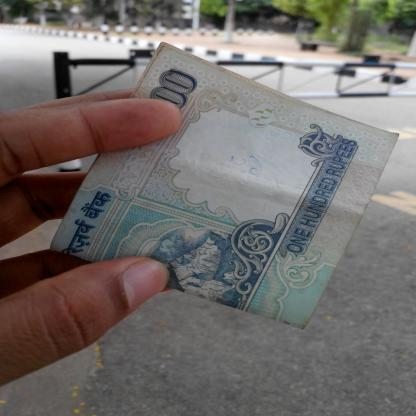Old100Back: (50, 41, 400, 330)
